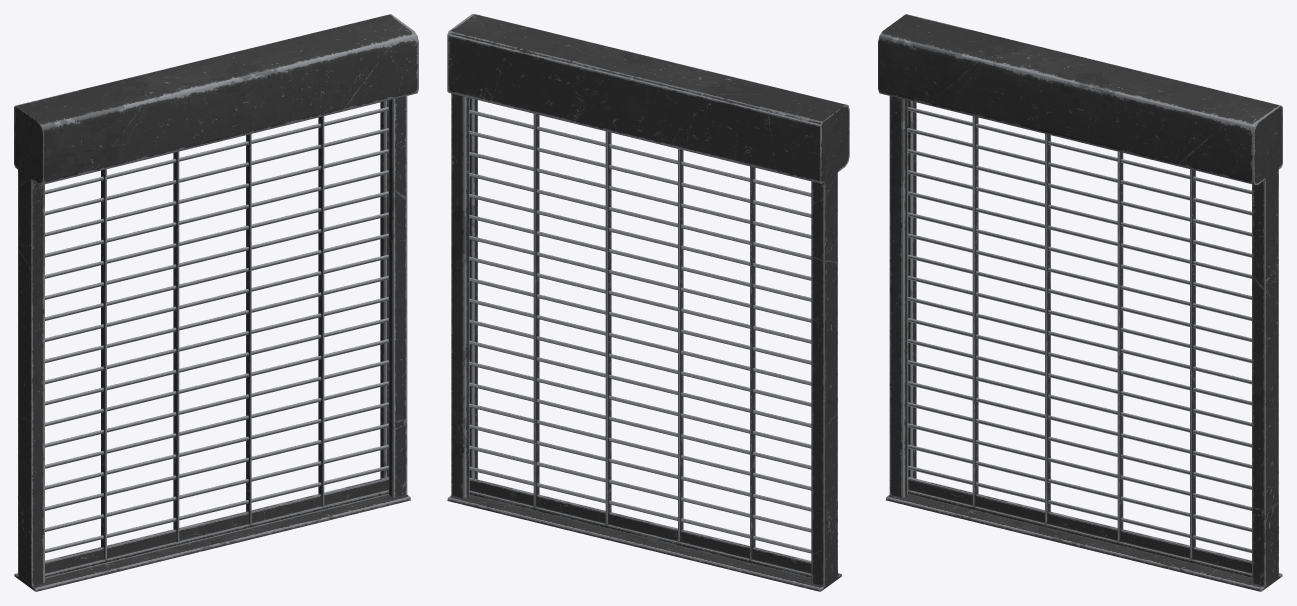
File: sewer_opening.glb
3 views of the same model, side by side, from view 1: azimuth 30°, elevation 25°; view 2: azimuth 150°, elevation 25°; view 3: azimuth 330°, elevation 25° (orthographic).
Parts seen in each view (by area): view 1: SW_Model_01, Wire; view 2: SW_Model_01, Wire; view 3: SW_Model_01, Wire.
Part boxes in pixels (x1,y1,x2,y2): SW_Model_01: (14,14,418,591); Wire: (45,107,388,578); SW_Model_01: (447,14,849,591); Wire: (469,110,811,578); SW_Model_01: (878,14,1282,591); Wire: (908,107,1251,578).
Bounding box in the file's own units: 2.5 × 3 × 0.34.
Materials: 1 (1 with a texture image).
